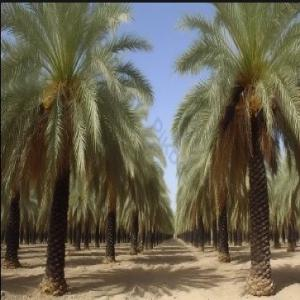palm tree: (1, 1, 156, 295), (172, 1, 299, 296)
